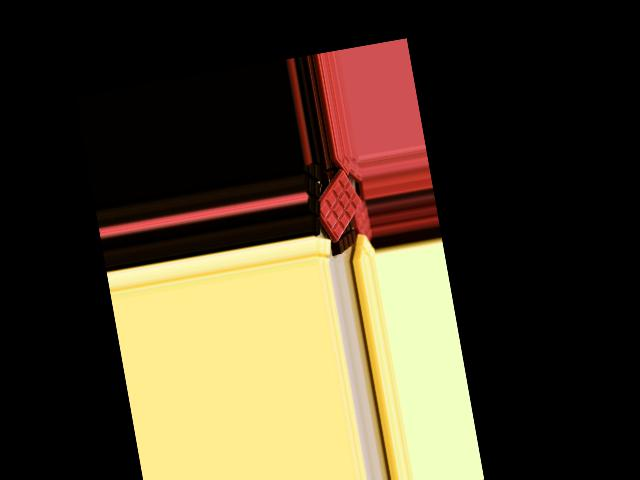chocolate: (302, 166, 369, 244)
